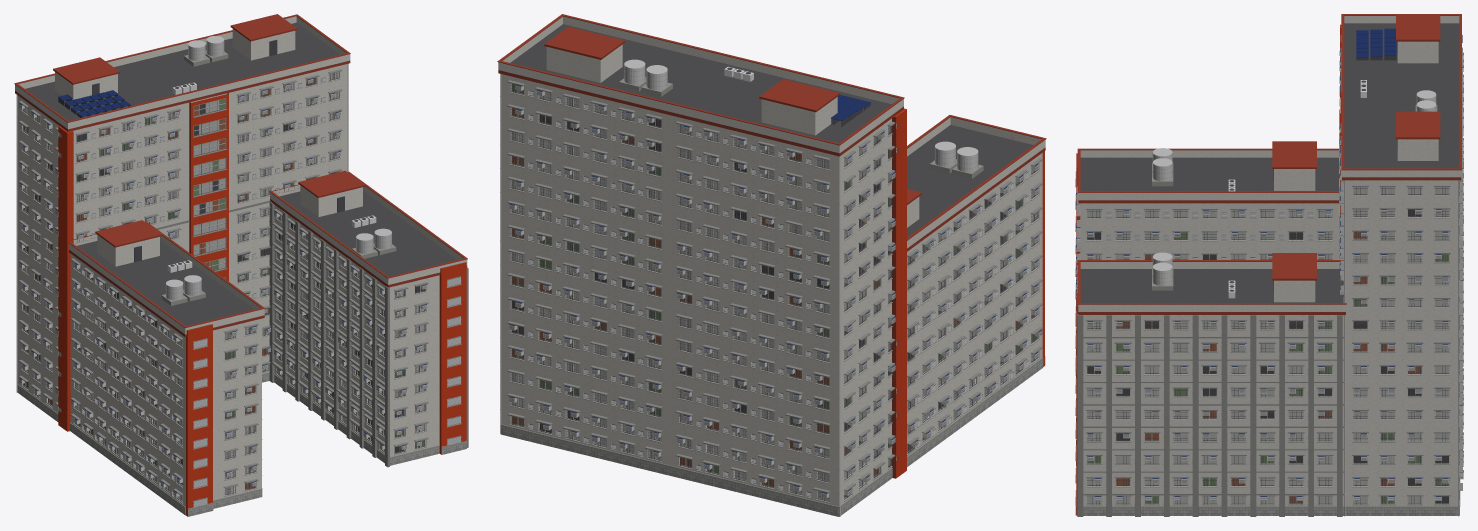
The model's file is Bhagat_Singh_Hostel_Building.glb.
The picture shows the model from 3 angles, left to right: view 1: azimuth 30°, elevation 25°; view 2: azimuth 150°, elevation 25°; view 3: azimuth 270°, elevation 25°; orthographic projection. The views are drawn at different scales.
Visible parts, largest first — view 1: BSH_Tower, BSH_WingEast, BSH_WingWest, BSH_Plinth; view 2: BSH_Tower, BSH_WingWest, BSH_Plinth; view 3: BSH_WingEast, BSH_Tower, BSH_WingWest, BSH_Plinth.
Boxes of the visible parts, x1,y1,x2,y2 form: BSH_Tower: (14,14,350,431); BSH_WingEast: (269,170,468,467); BSH_WingWest: (68,220,264,516); BSH_Plinth: (17,357,466,516); BSH_Tower: (497,14,906,516); BSH_WingWest: (844,115,1046,456); BSH_Plinth: (500,345,1045,516); BSH_WingEast: (1075,252,1346,516); BSH_Tower: (1339,14,1463,516); BSH_WingWest: (1075,141,1339,362); BSH_Plinth: (1075,371,1460,515).
Size of the model in its own units: 90.05 by 97.3 by 94.22.
27 materials, 6 textured.
